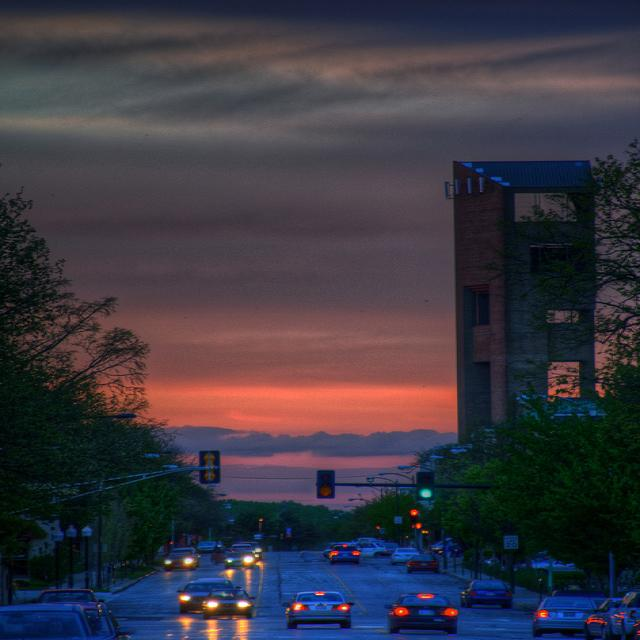Vehicle: (0, 537, 639, 639), (382, 594, 457, 634), (530, 595, 599, 638), (286, 592, 352, 630), (200, 588, 256, 620), (175, 581, 229, 614), (461, 579, 514, 610), (586, 597, 624, 640), (31, 590, 106, 604), (165, 548, 202, 572), (406, 554, 442, 574), (329, 545, 360, 565), (391, 548, 419, 565), (356, 542, 386, 557)
